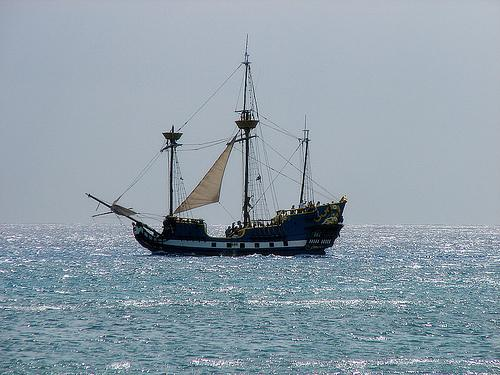Ship: (86, 36, 350, 256)
